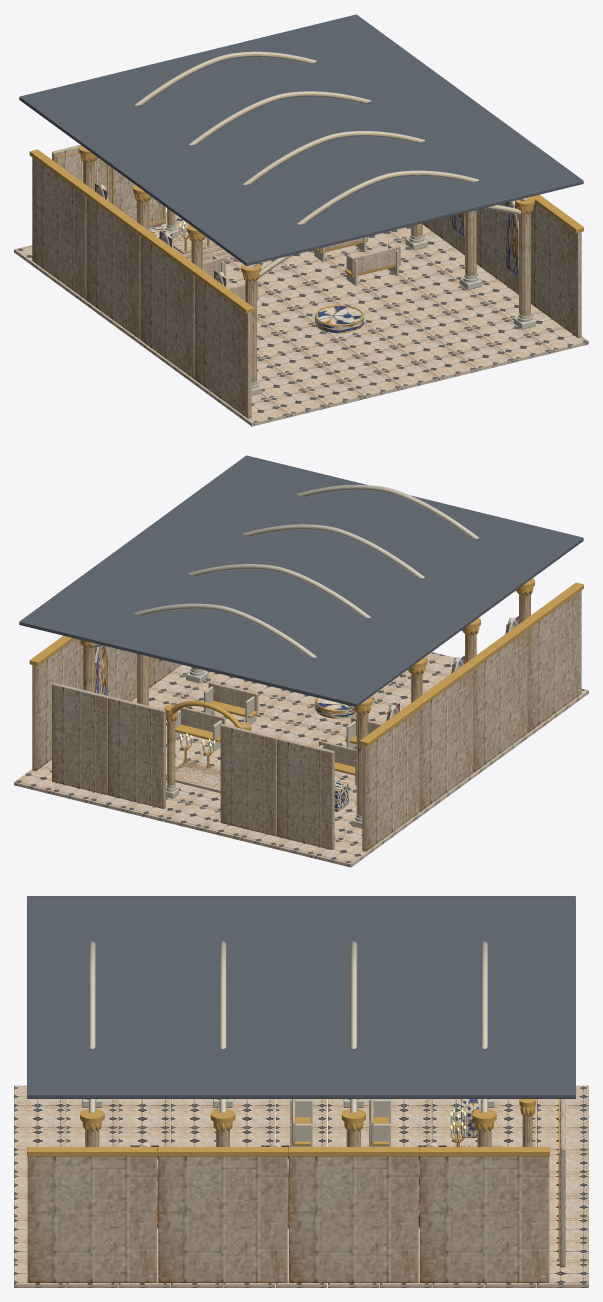
File: room-2.glb
3 renders of one model, top to bottom at view 1: azimuth 30°, elevation 25°; view 2: azimuth 150°, elevation 25°; view 3: azimuth 270°, elevation 25°, orthographic. The views are drawn at different scales.
Visible parts, largest first — view 1: Architecture Vaulted ceiling, Architecture Architectural stone, Architecture Floor tile, Architecture Antique gilt, Architecture Warm cut stone, Architecture Decorative ceramic, Architecture Decorated glass; view 2: Architecture Vaulted ceiling, Architecture Architectural stone, Architecture Floor tile, Architecture Antique gilt, Architecture Warm cut stone, Architecture Decorative ceramic, Architecture Decorated glass; view 3: Architecture Vaulted ceiling, Architecture Architectural stone, Architecture Floor tile, Architecture Antique gilt, Architecture Warm cut stone, Architecture Decorative ceramic.
Part boxes in pixels (<box>): Architecture Vaulted ceiling: <box>19,14,583,265</box>; Architecture Architectural stone: <box>32,145,581,418</box>; Architecture Floor tile: <box>14,212,588,426</box>; Architecture Antique gilt: <box>29,54,583,380</box>; Architecture Warm cut stone: <box>96,51,535,395</box>; Architecture Decorative ceramic: <box>149,225,363,333</box>; Architecture Decorated glass: <box>95,183,518,286</box>; Architecture Vaulted ceiling: <box>19,455,583,706</box>; Architecture Architectural stone: <box>32,582,581,851</box>; Architecture Floor tile: <box>14,652,588,867</box>; Architecture Antique gilt: <box>29,578,583,814</box>; Architecture Warm cut stone: <box>92,484,517,828</box>; Architecture Decorative ceramic: <box>315,698,356,811</box>; Architecture Decorated glass: <box>95,616,518,720</box>; Architecture Vaulted ceiling: <box>27,896,575,1098</box>; Architecture Architectural stone: <box>27,1099,565,1282</box>; Architecture Floor tile: <box>14,1085,588,1287</box>; Architecture Antique gilt: <box>27,943,559,1261</box>; Architecture Warm cut stone: <box>82,941,494,1173</box>; Architecture Decorative ceramic: <box>461,1099,481,1137</box>.
Bounding box in the file's own units: 18.05 × 9.59 × 21.99.
Materials: 9 (4 with a texture image).
